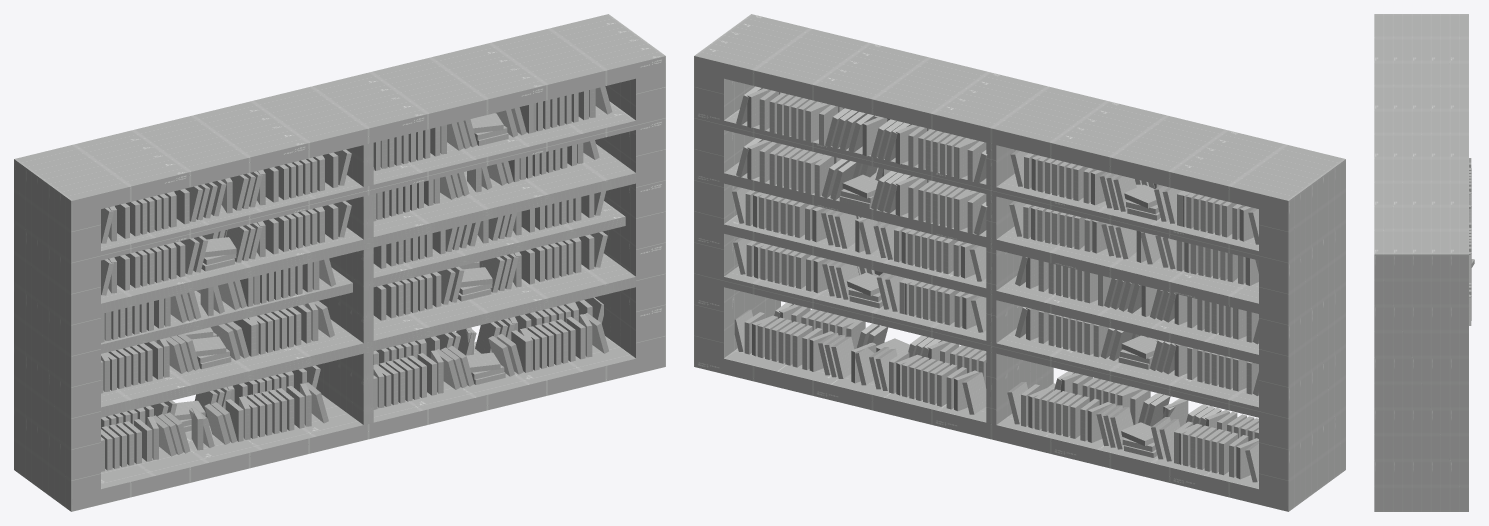
The model's file is book_shelf.gltf.
3 renders of one model, left to right at view 1: azimuth 30°, elevation 25°; view 2: azimuth 150°, elevation 25°; view 3: azimuth 270°, elevation 25°, orthographic. The views are drawn at different scales.
Parts seen in each view (by area): view 1: BookShelf2; view 2: BookShelf2; view 3: BookShelf2.
Part boxes in pixels (box(x1,y1,x2,y2)): BookShelf2: box(14, 14, 665, 511); BookShelf2: box(694, 14, 1345, 511); BookShelf2: box(1374, 14, 1474, 511).
Size of the model in its own units: 6 by 3 by 1.06.
1 material, 1 textured.
